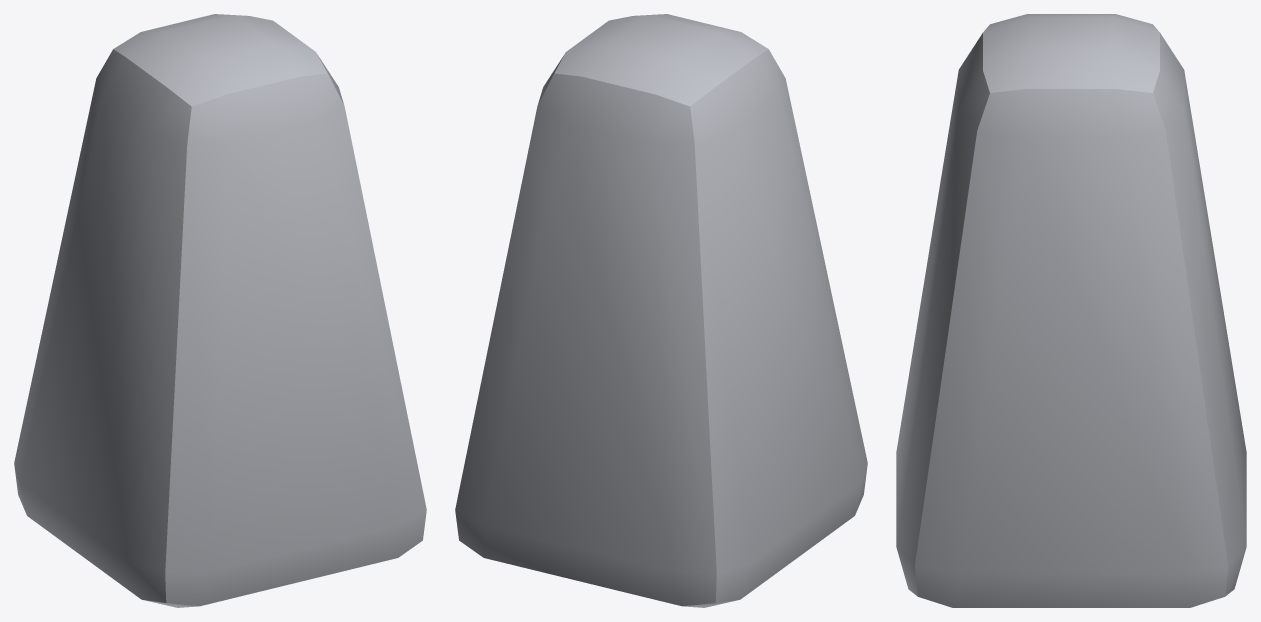
File: RockBig_A.fbx
3 renders of one model, left to right at view 1: azimuth 30°, elevation 25°; view 2: azimuth 150°, elevation 25°; view 3: azimuth 270°, elevation 25°, orthographic. The views are drawn at different scales.
Visible parts, largest first — view 1: RockBig_A; view 2: RockBig_A; view 3: RockBig_A.
Part boxes in pixels (<box>): RockBig_A: <box>14,14,426,607</box>; RockBig_A: <box>455,14,867,607</box>; RockBig_A: <box>896,14,1246,607</box>.
Bounding box in the file's own units: 122 × 200 × 122.
